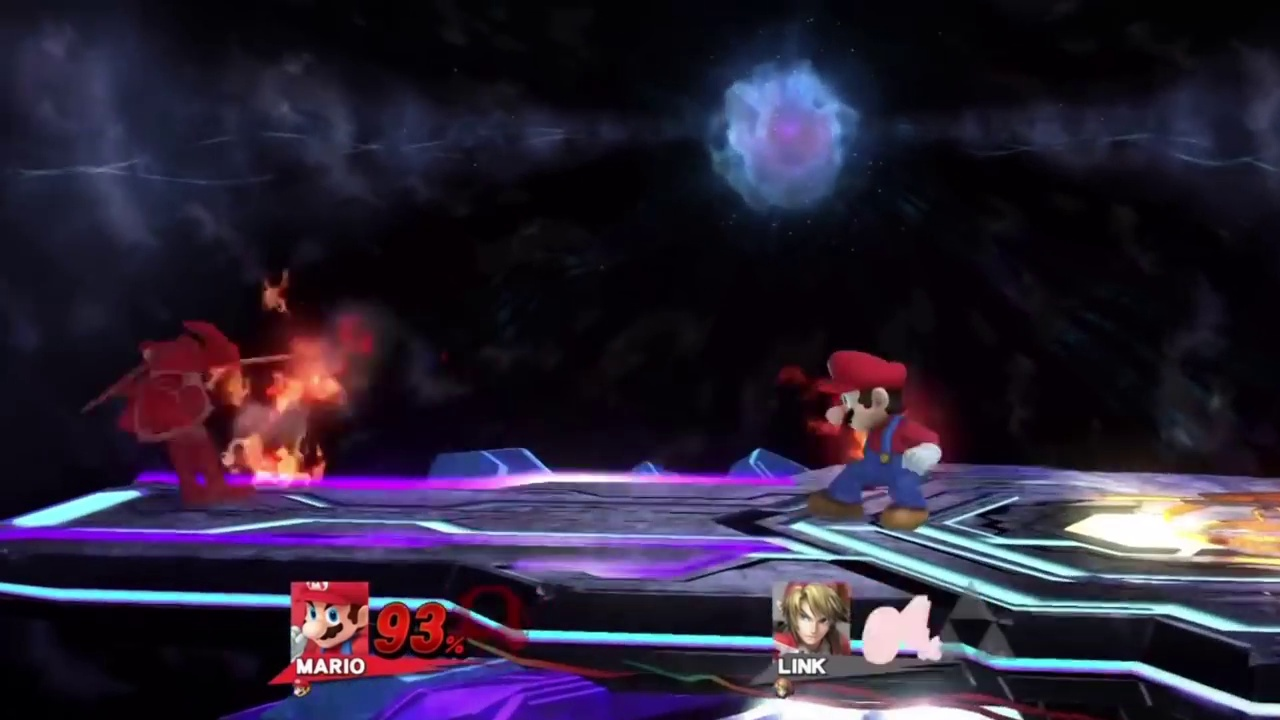Mario: (810, 350, 938, 531)
